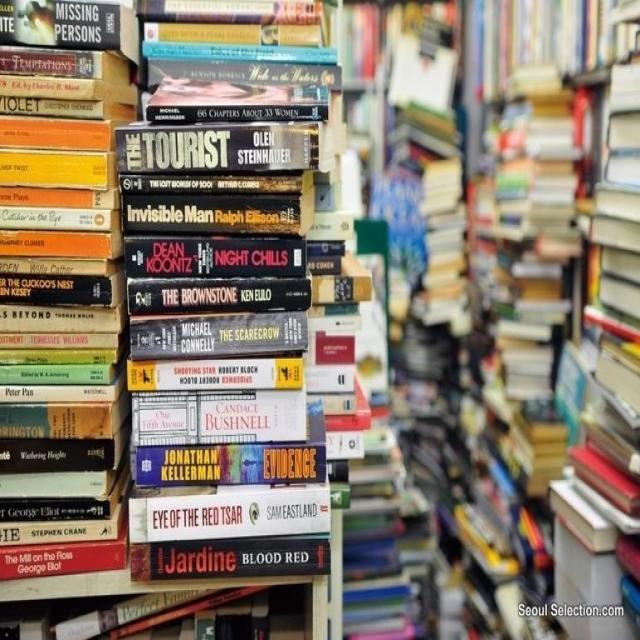book: (118, 120, 323, 173), (132, 437, 326, 489), (130, 310, 312, 362), (138, 534, 331, 583), (120, 188, 312, 235), (128, 274, 314, 320), (124, 233, 312, 278), (0, 391, 133, 448), (139, 56, 334, 92), (0, 114, 134, 164), (0, 45, 136, 91), (1, 228, 129, 268), (142, 40, 334, 66), (140, 1, 322, 28), (136, 102, 331, 127), (0, 352, 131, 388), (1, 269, 125, 307), (0, 202, 128, 235)
